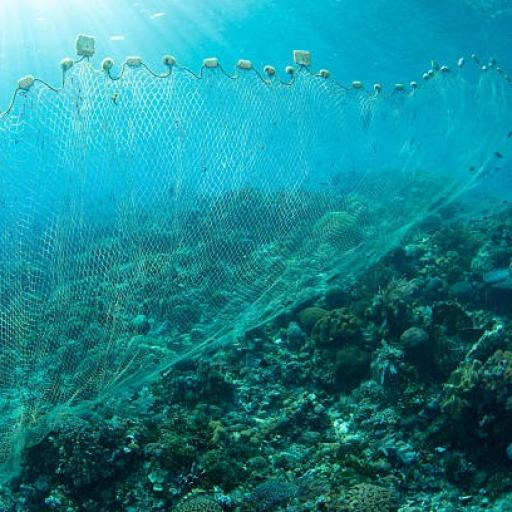net: (0, 30, 512, 458)
